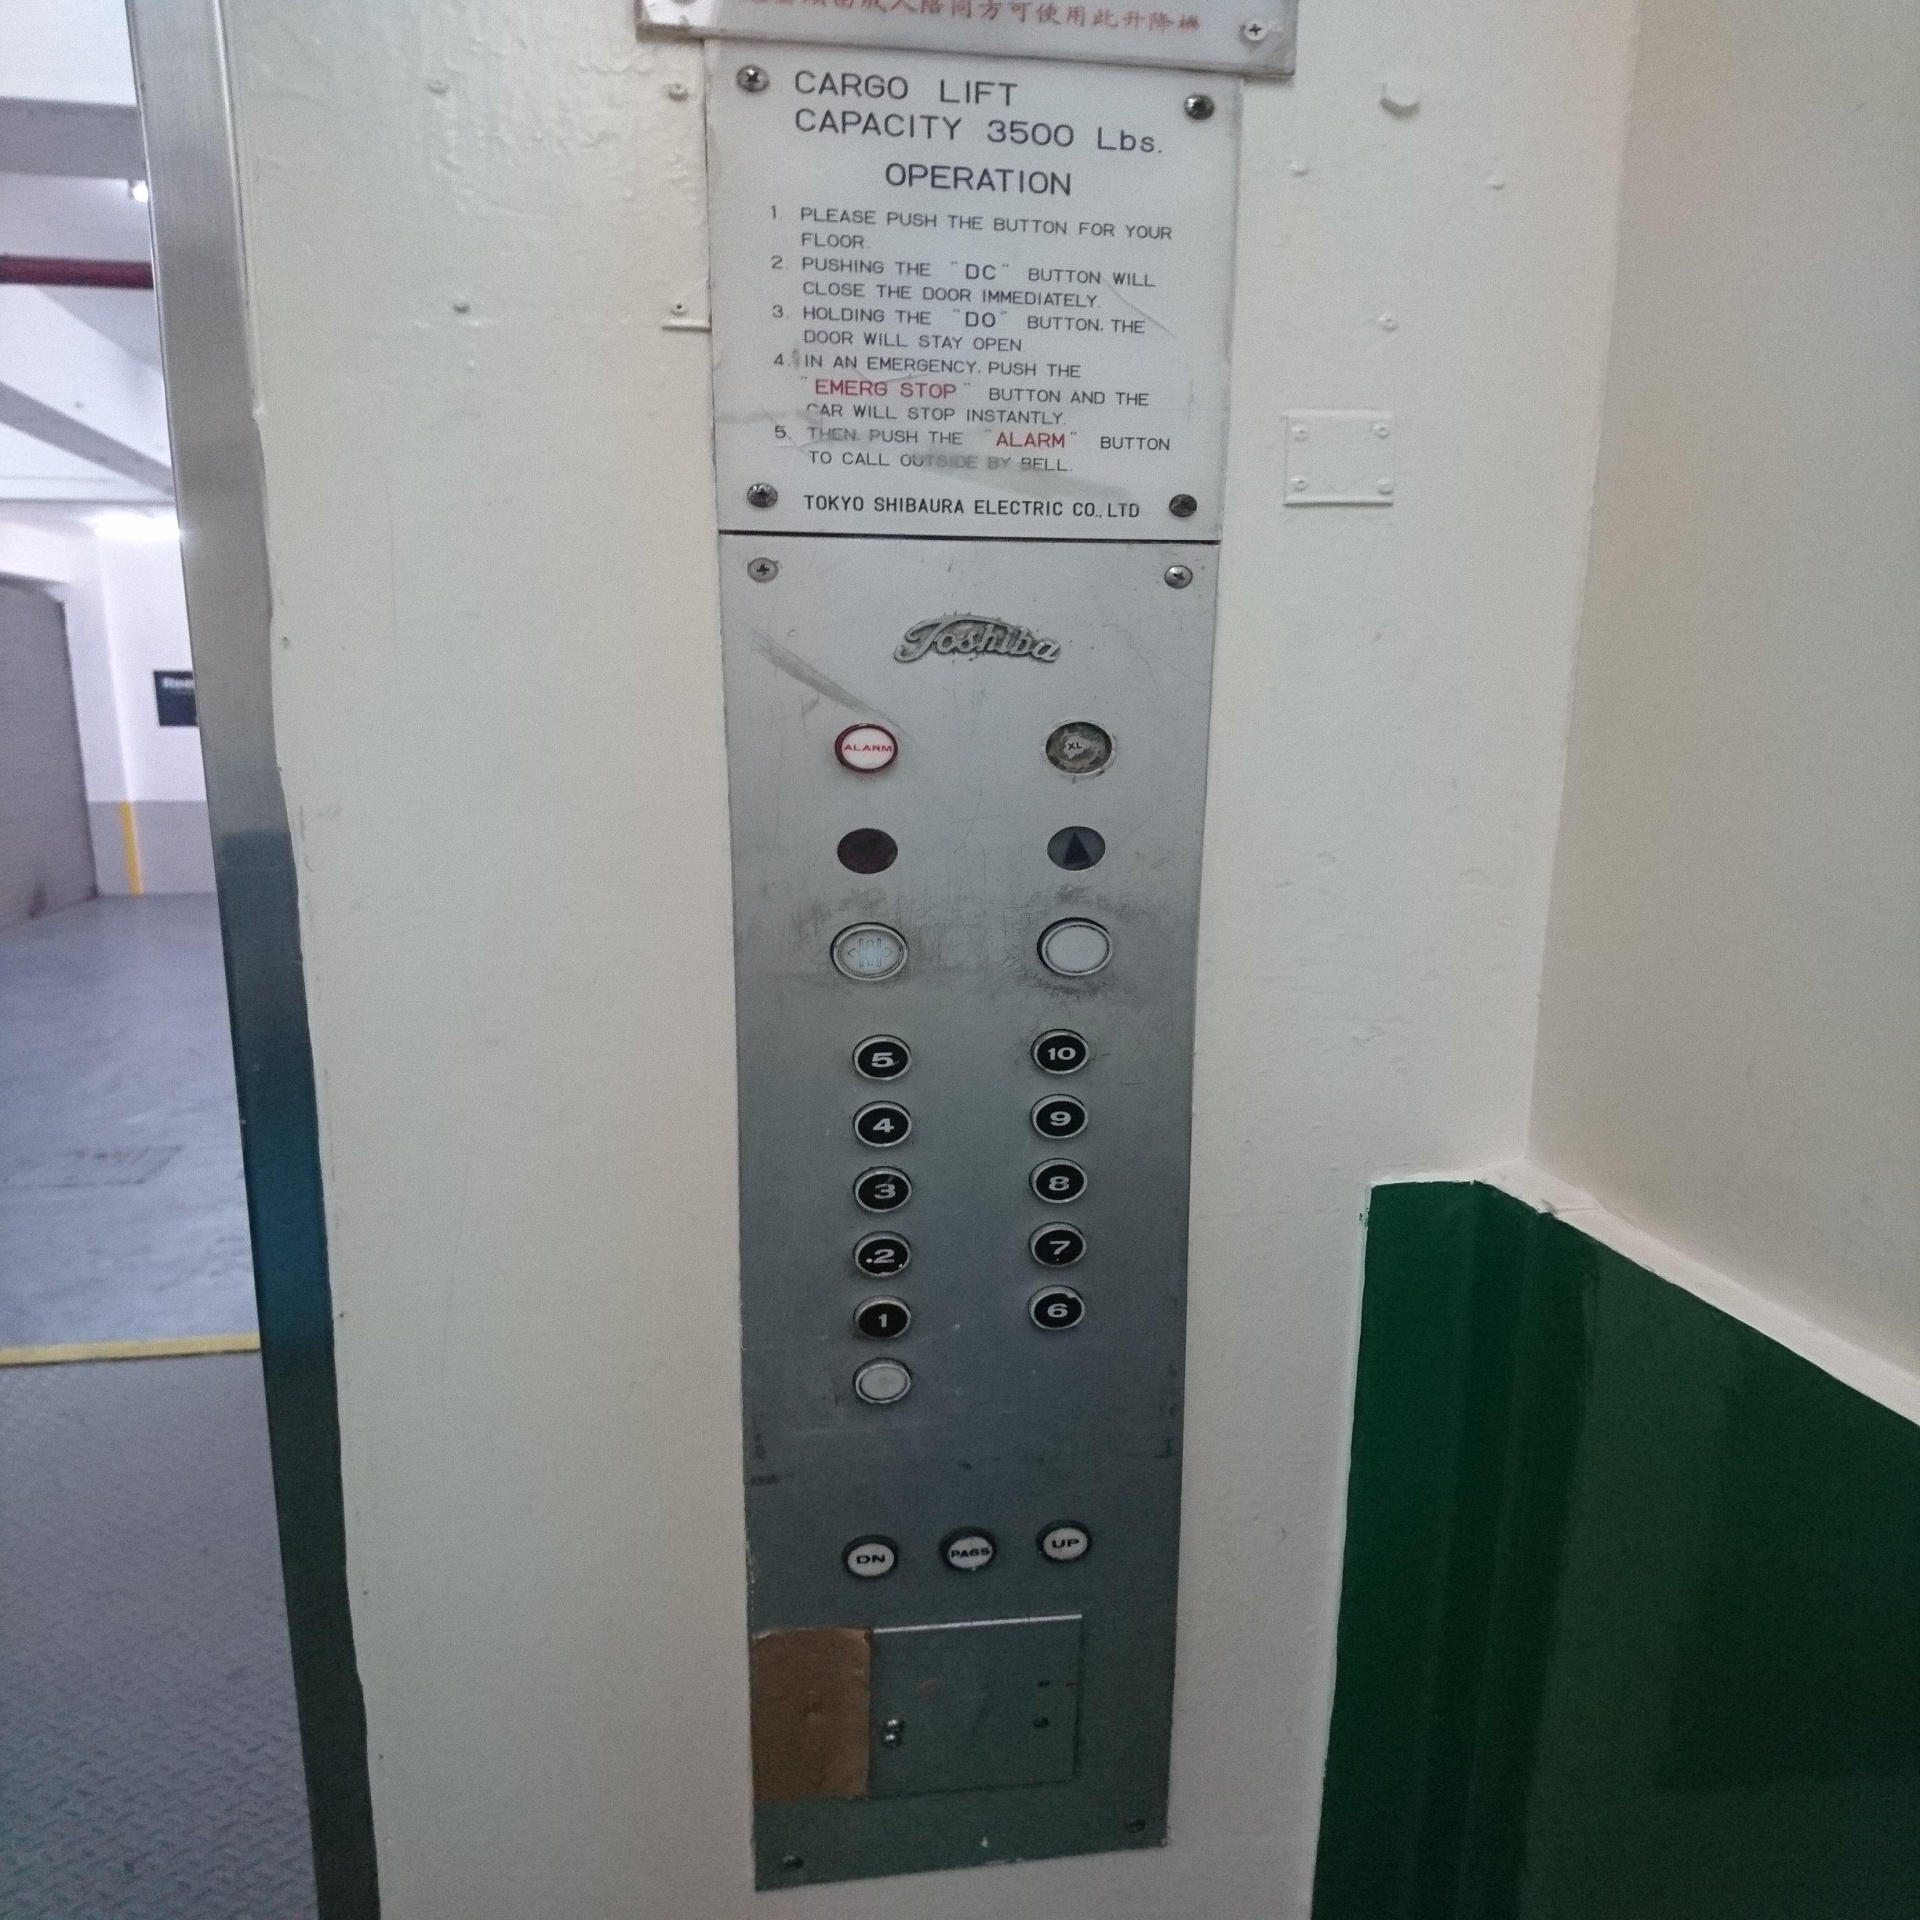1: (853, 1294, 913, 1343)
10: (1032, 1027, 1090, 1078)
2: (851, 1229, 913, 1278)
3: (853, 1164, 911, 1215)
4: (851, 1101, 913, 1148)
5: (849, 1032, 913, 1083)
6: (1025, 1284, 1087, 1333)
7: (1029, 1218, 1087, 1269)
8: (1029, 1153, 1087, 1208)
9: (1030, 1092, 1088, 1139)
DN: (840, 1531, 900, 1582)
UP: (1037, 1517, 1092, 1565)
empty: (1037, 913, 1116, 978), (835, 826, 900, 876), (853, 1357, 913, 1407)
open: (828, 918, 911, 983)
text: (833, 723, 900, 775)
text_blur: (1044, 714, 1116, 777)
text_pass: (937, 1523, 995, 1575)
up: (1044, 823, 1111, 870)
